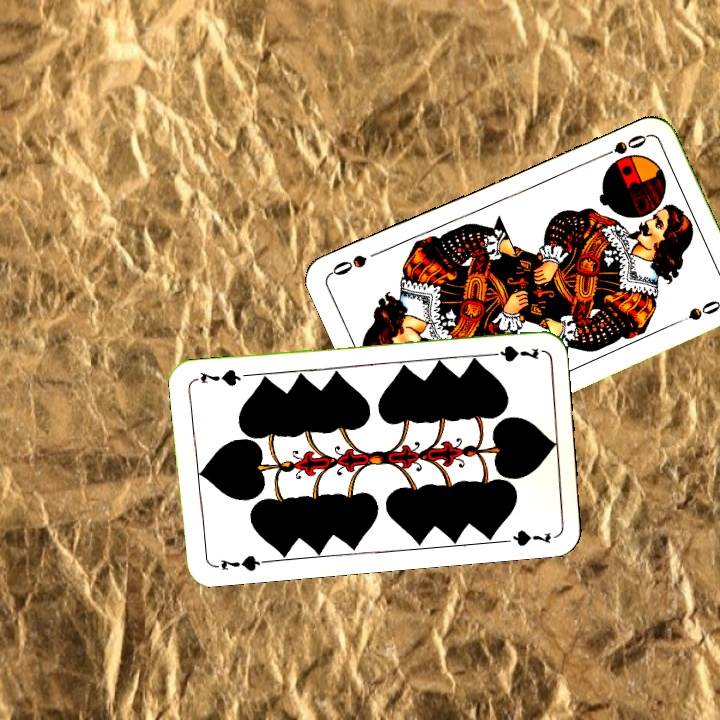G7: (482, 341, 542, 365), (209, 551, 268, 574)
SO: (593, 130, 650, 162)
